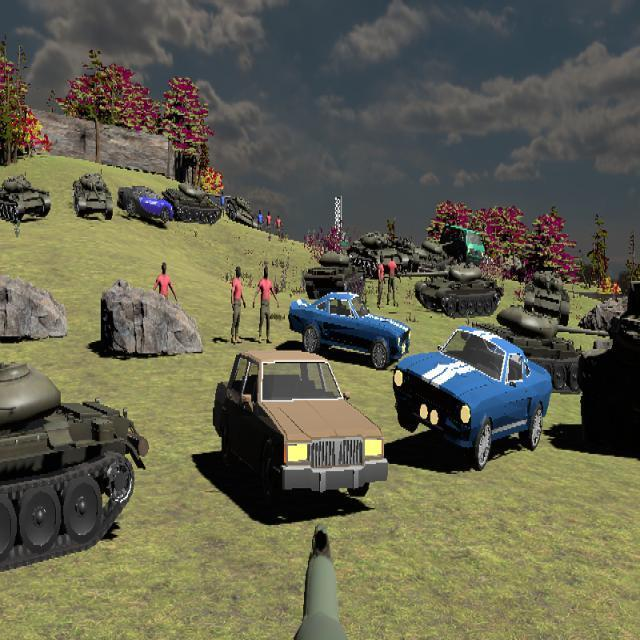Human: (253, 266, 279, 345), (152, 261, 178, 329), (230, 266, 246, 345), (386, 252, 400, 306)
Tank: (1, 355, 150, 582), (464, 308, 611, 395), (404, 260, 504, 317), (348, 231, 413, 278), (301, 250, 363, 298), (523, 270, 570, 327), (0, 174, 51, 224), (164, 183, 224, 225), (72, 171, 114, 221), (225, 193, 255, 230)
car: (212, 351, 388, 509), (393, 326, 553, 471), (288, 291, 412, 371), (117, 185, 174, 224), (439, 224, 486, 269)
